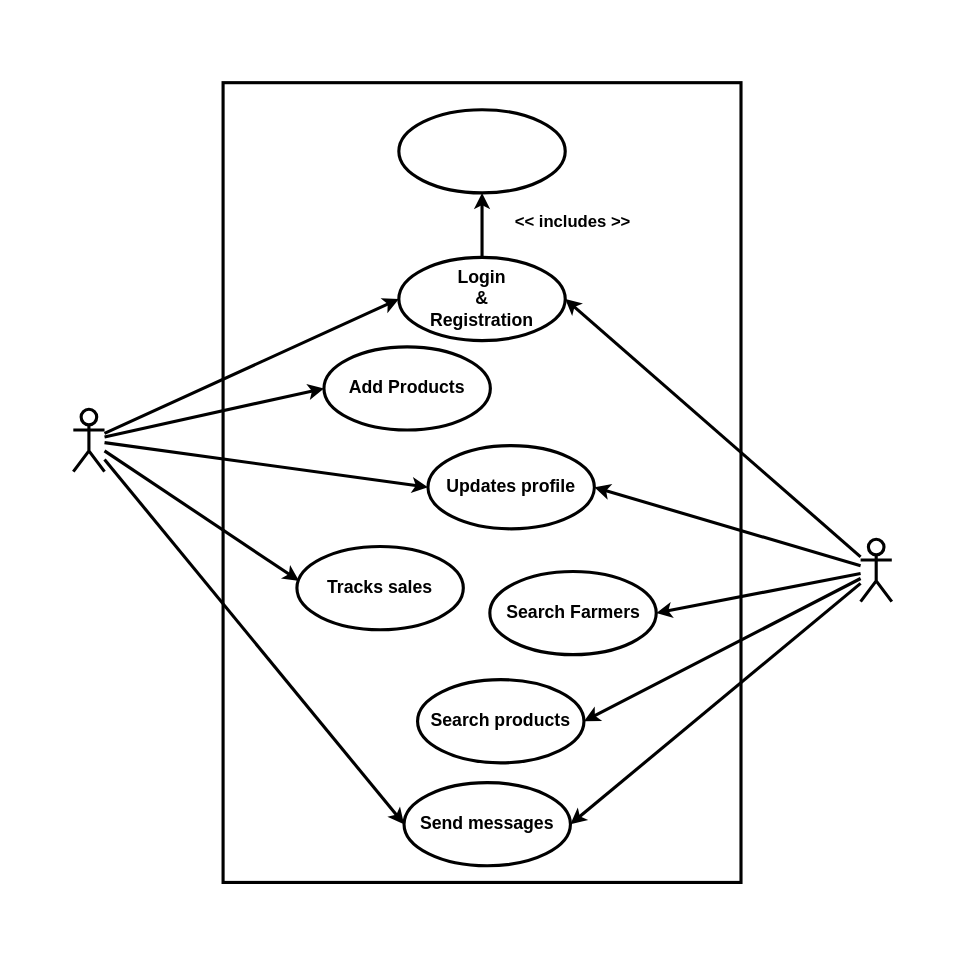
The diagram is 964 pixels wide and 964 high, and some of its shapes have lost their labels. Here are the shapes that lost their labels. From the top down, the box of each, then its label:
(397, 108, 566, 194): Validation
(71, 407, 106, 473): Farmer
(859, 537, 893, 603): Customer
